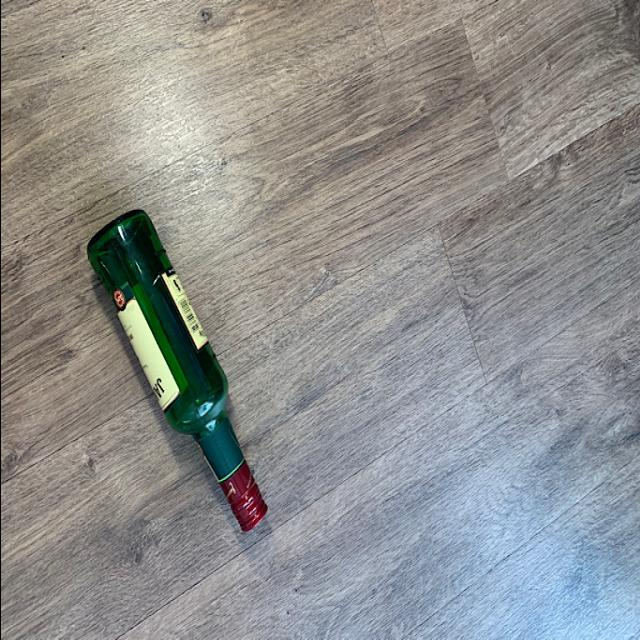Glass Bottle: (82, 206, 268, 535)
